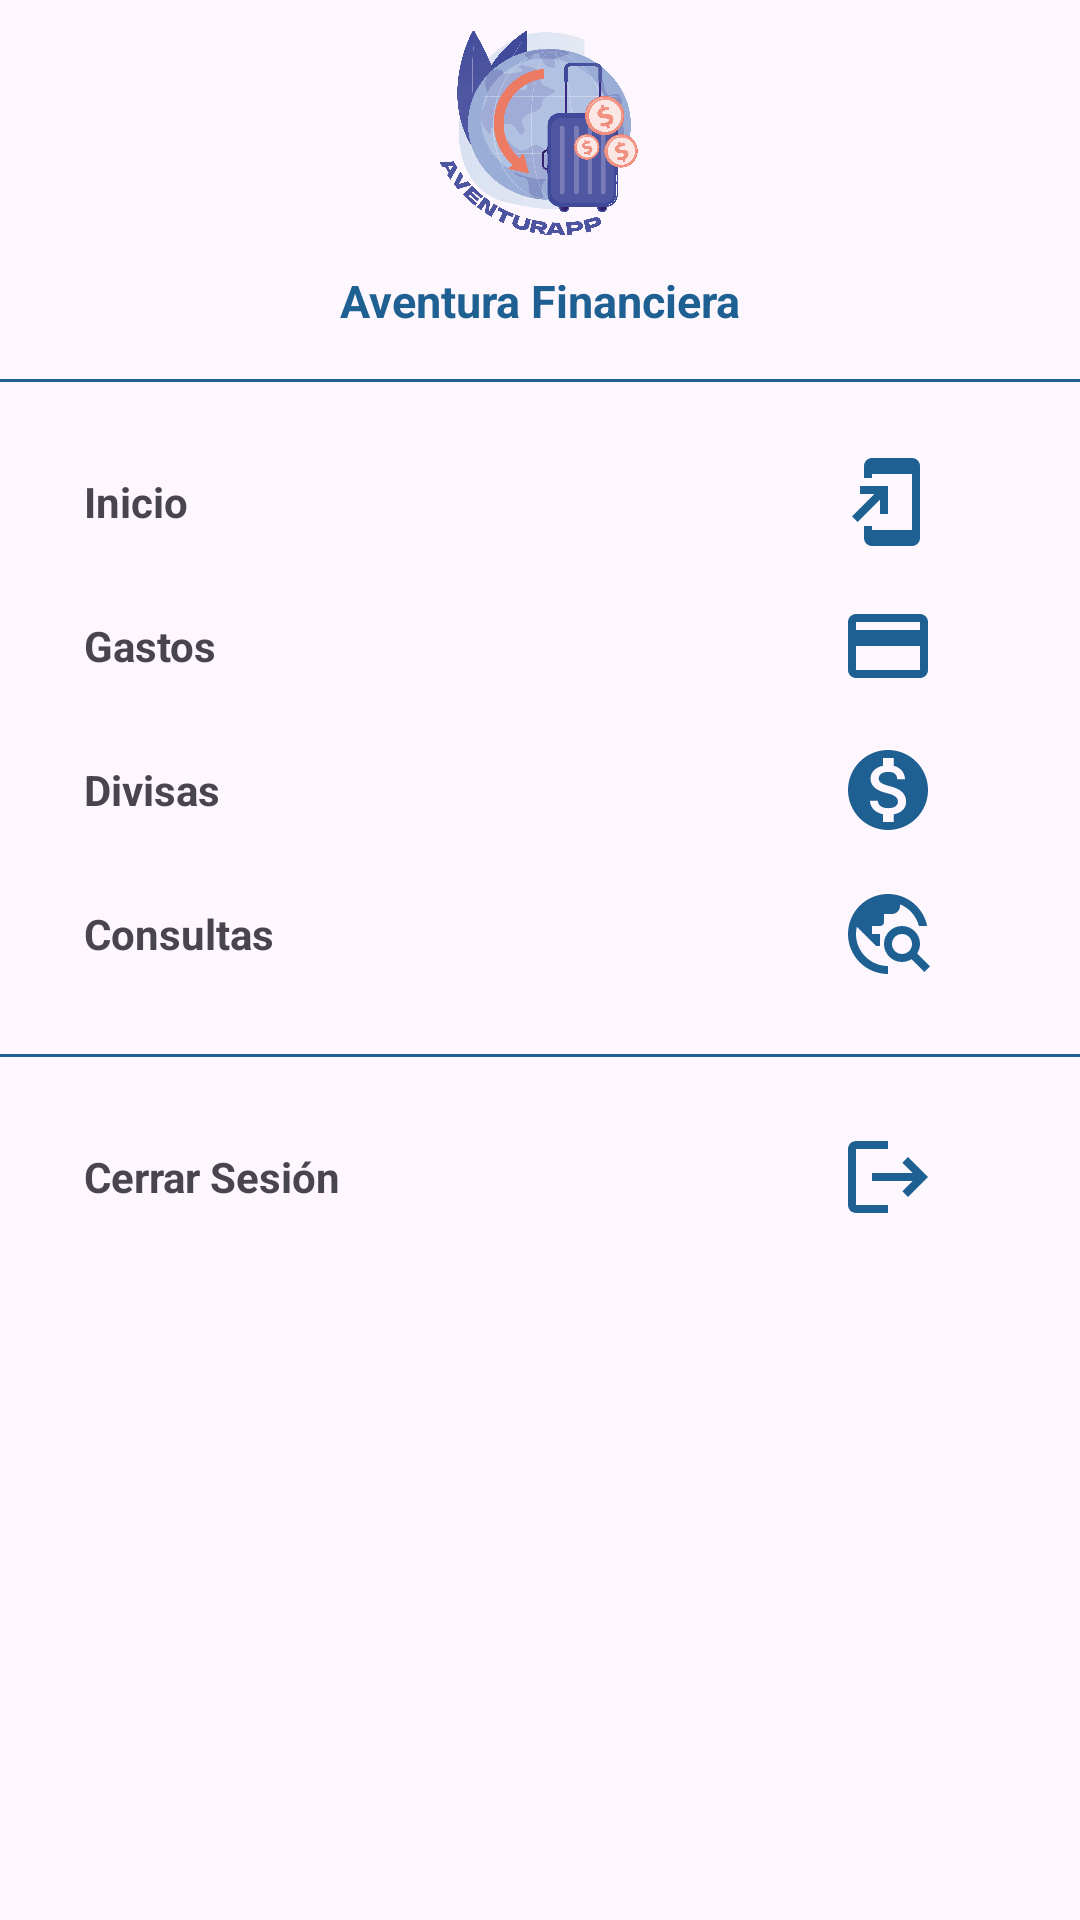

Icon bounding boxes for this 1080px x 1920px phone screenshot, format [x1,y1,x2,y2]:
money: [848,750,928,830]
payment: [848,614,928,678]
travel explore: [848,894,930,974]
